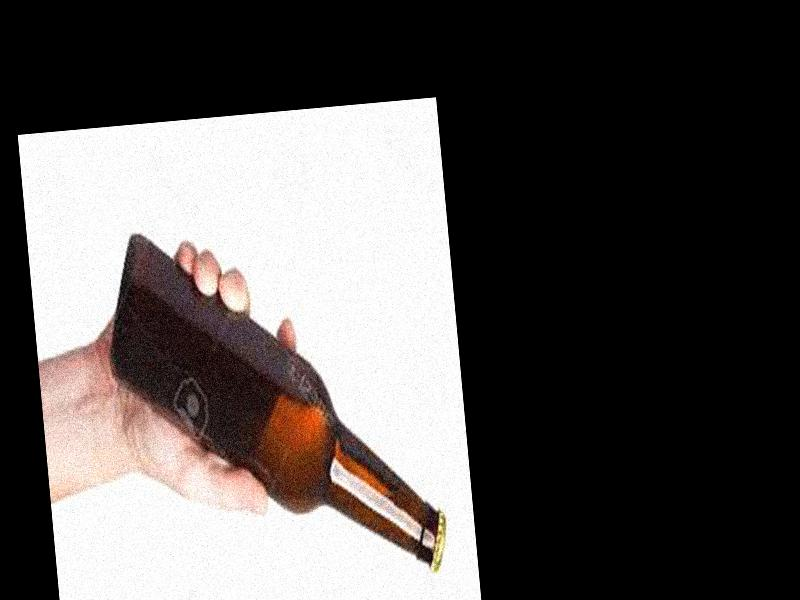Beer: (101, 212, 450, 600)
